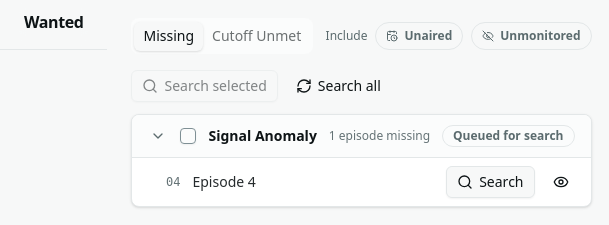
Test: clears the selection when the scope filters change
Click the checkbox named "Select Signal Anomaly": x=188, y=136 [180, 128, 196, 144]
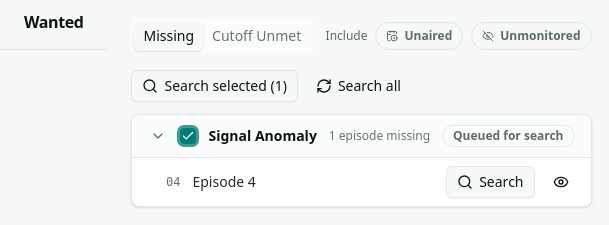
Expected: the button "Search selected (1)" is enabled, [132, 70, 298, 102]
Click the button "Unaired": x=419, y=36 [376, 22, 463, 50]
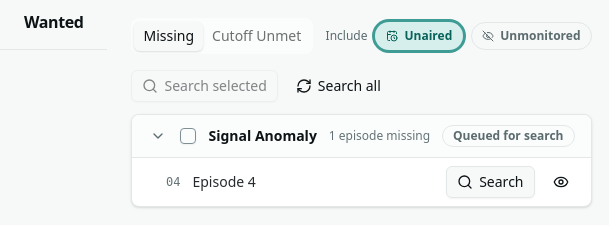
Expected: the button "Search selected" is disabled, [132, 70, 278, 102]
